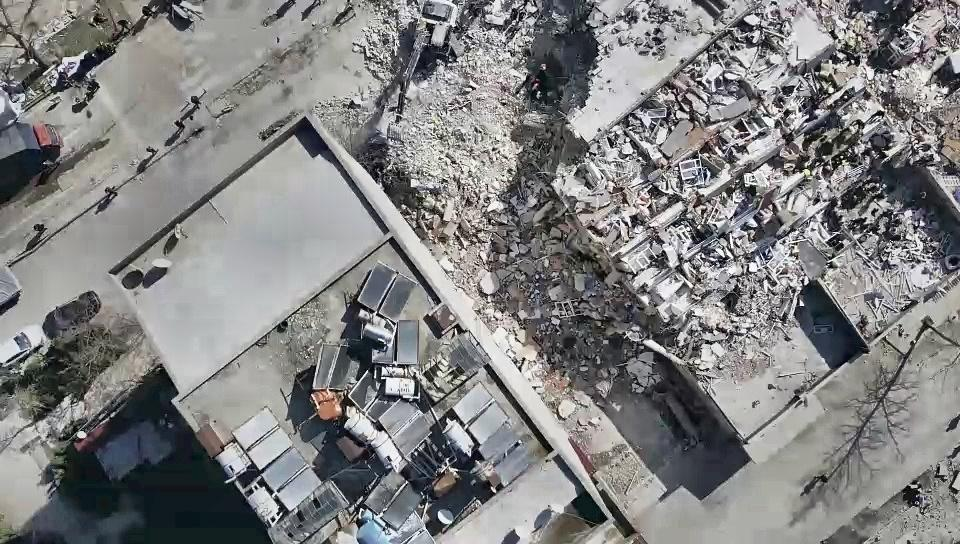kapali: (277, 0, 541, 146)
